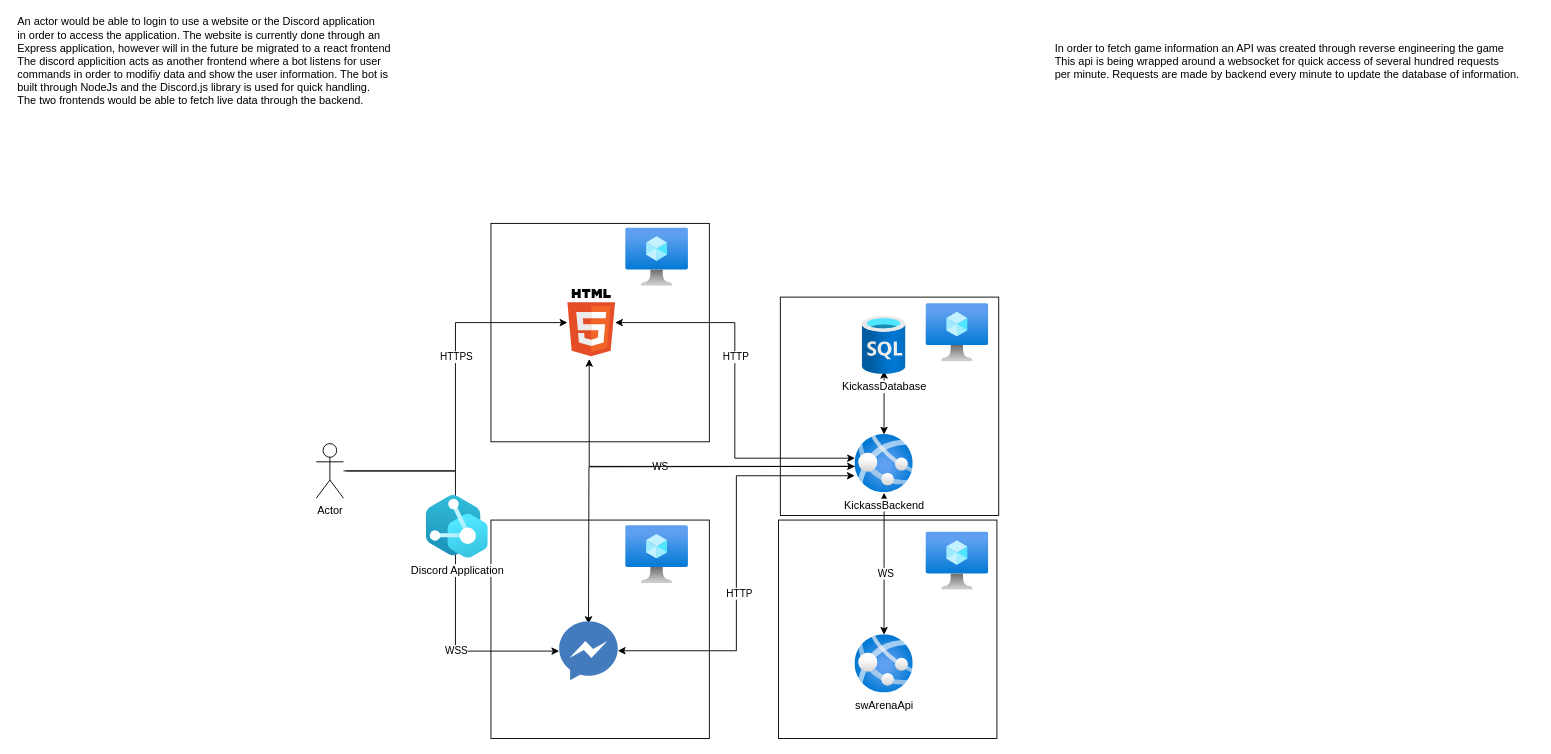
The diagram is 1551 pixels wide and 754 high, and some of its shapes have lost their labels. The shapes that lost their labels are listed below. From the top down, each one's centre as x and y in pixels, then its label:
At point (590, 322): "KickAssWebsite".
At point (588, 650): "KickAssPayoutsBot".
